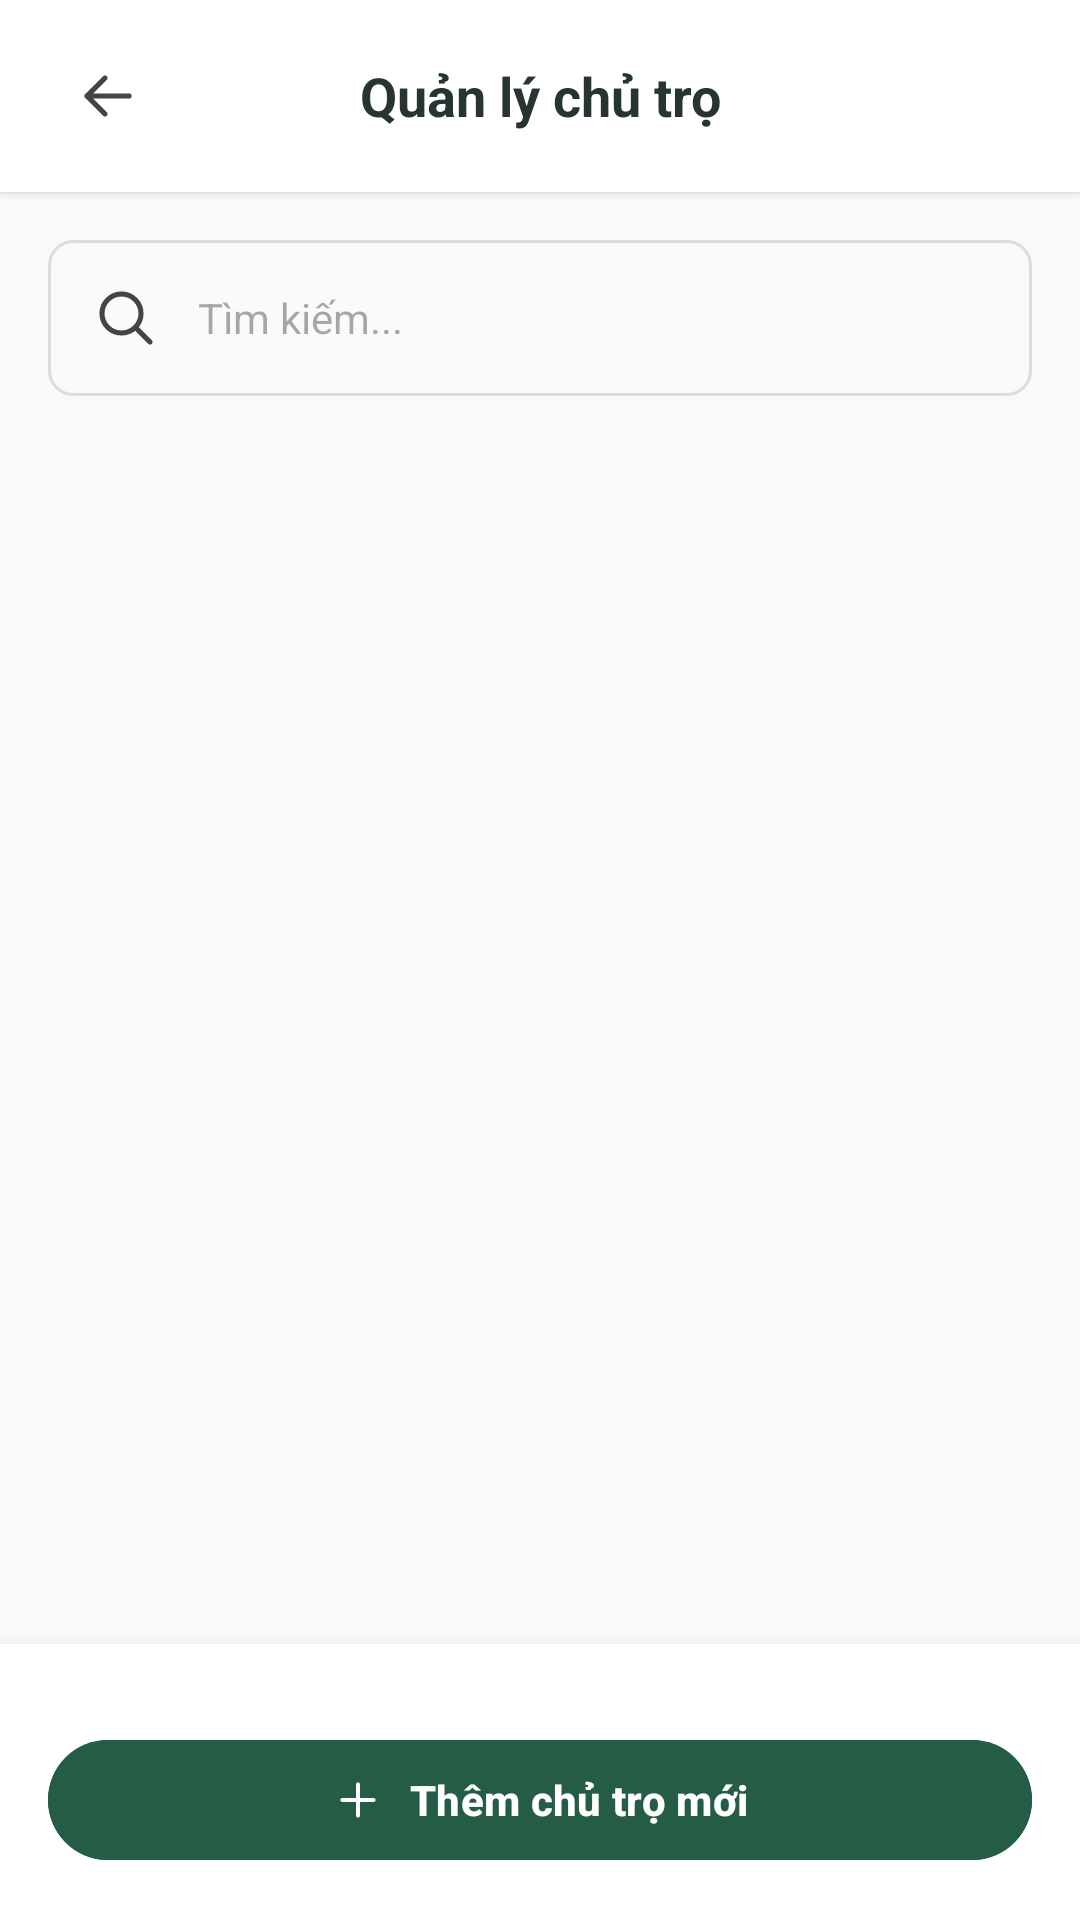

Screen size 1080x1920. Icon name, then its box in pixels as (x1, y1, x2, y2):
Quay lại: (84, 75, 132, 117)
